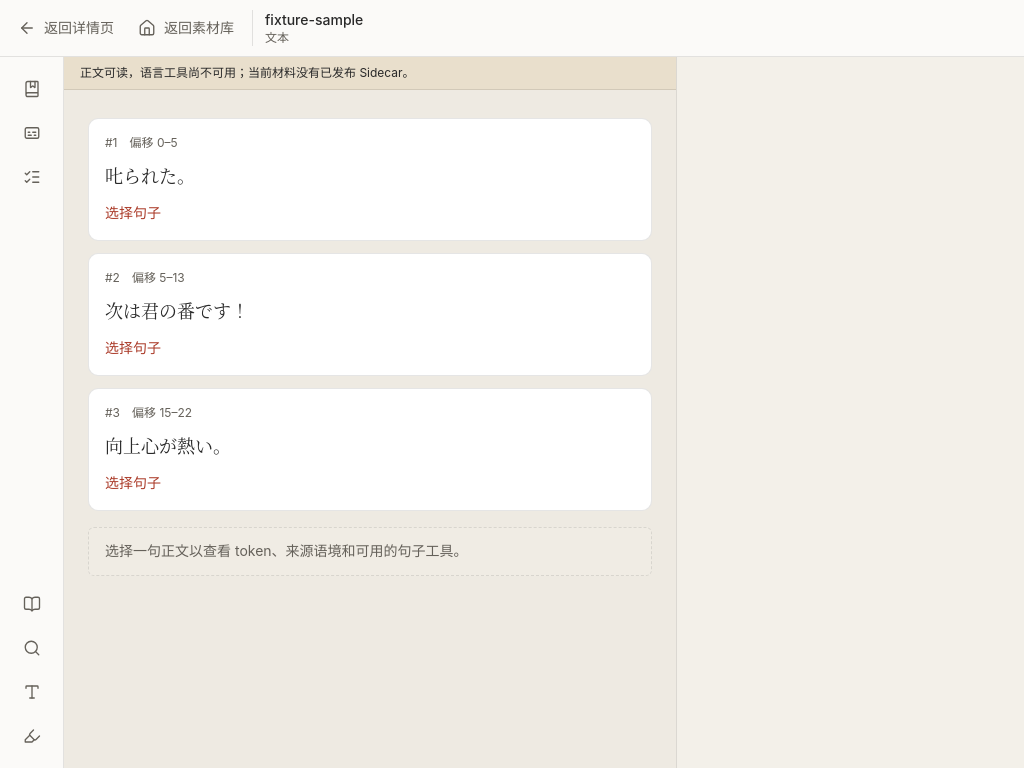
Scenario: ReaderWorkspace RF-02 boundary › keeps text readable without a Sidecar while language tools stay unavailable and no tokens are faked
Expected: the text "𠮟られた。" is shown, [105,162,195,188]
What coordinates should you click on to do the following:
click the button "选择句子" below "偏移 5–13"
I would click on:
 (133, 348)
Its box is [105,338,161,358].
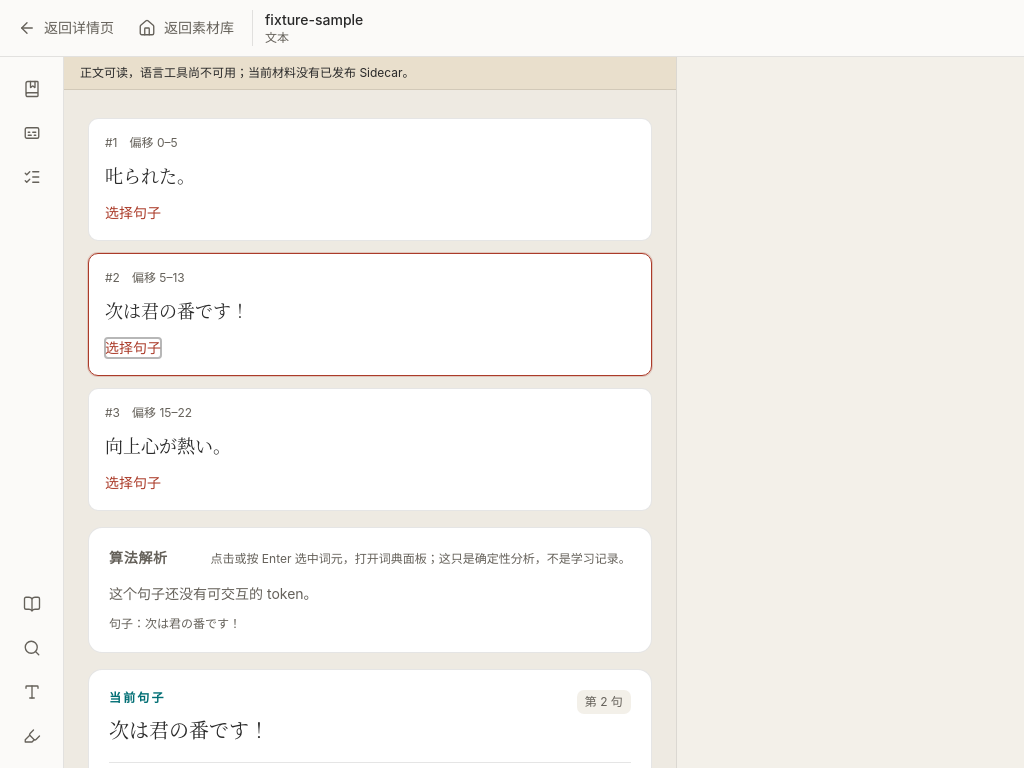
Result: the text "这个句子还没有可交互的 token。" is shown at [109,585,318,602]
What coordinates should you click on to do the following:
click the button named "查词"
I would click on:
 (32, 89)
Its box is [12,69,52,109].
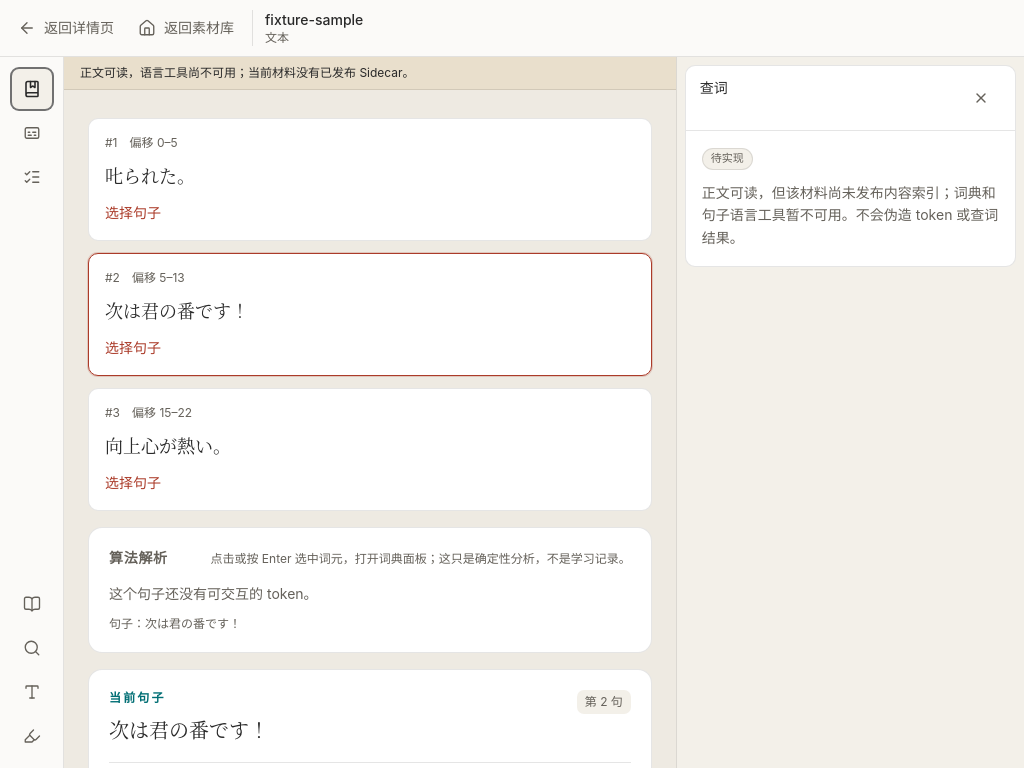
Expected: the text "正文可读，语言工具尚不可用；当前材料没有已发布 Sidecar。" is shown, [64,57,676,90]
Result: the element "查词" shows "尚未发布内容索引" at [702,184,998,246]
